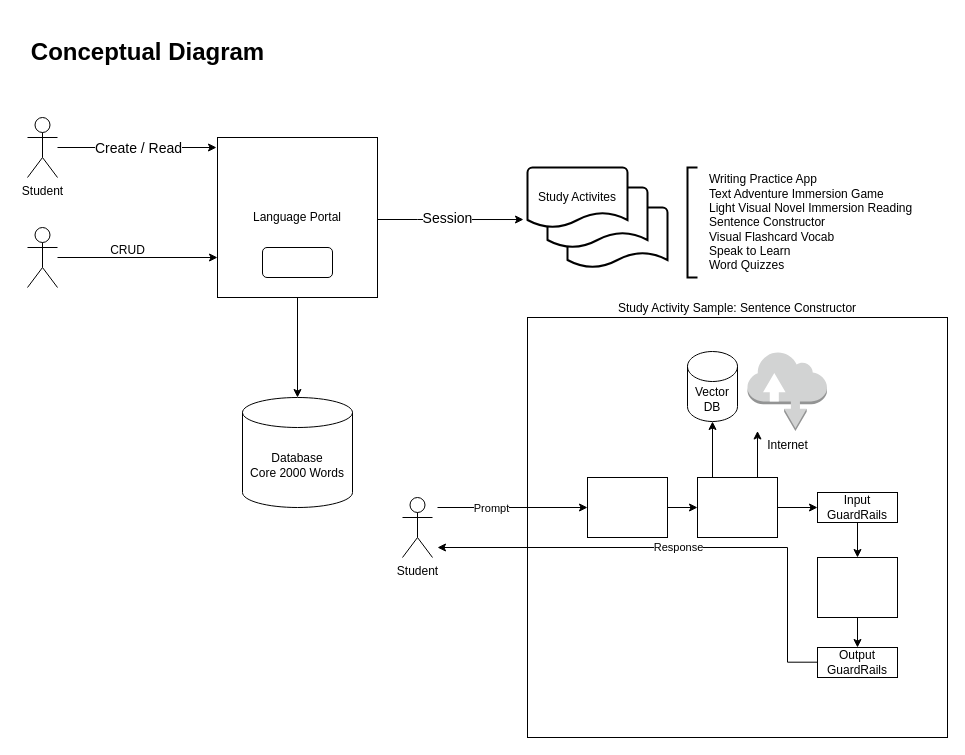
The diagram is 965 pixels wide and 755 high, and some of its shapes have lost their labels. Here are the shapes that lost their labels. From the top down, the box of each, then its label:
(26, 226, 58, 288): Teacher
(262, 246, 332, 278): Word Group
(586, 476, 668, 538): Prompt Cache
(696, 476, 778, 538): RAG
(816, 556, 898, 618): LLM
